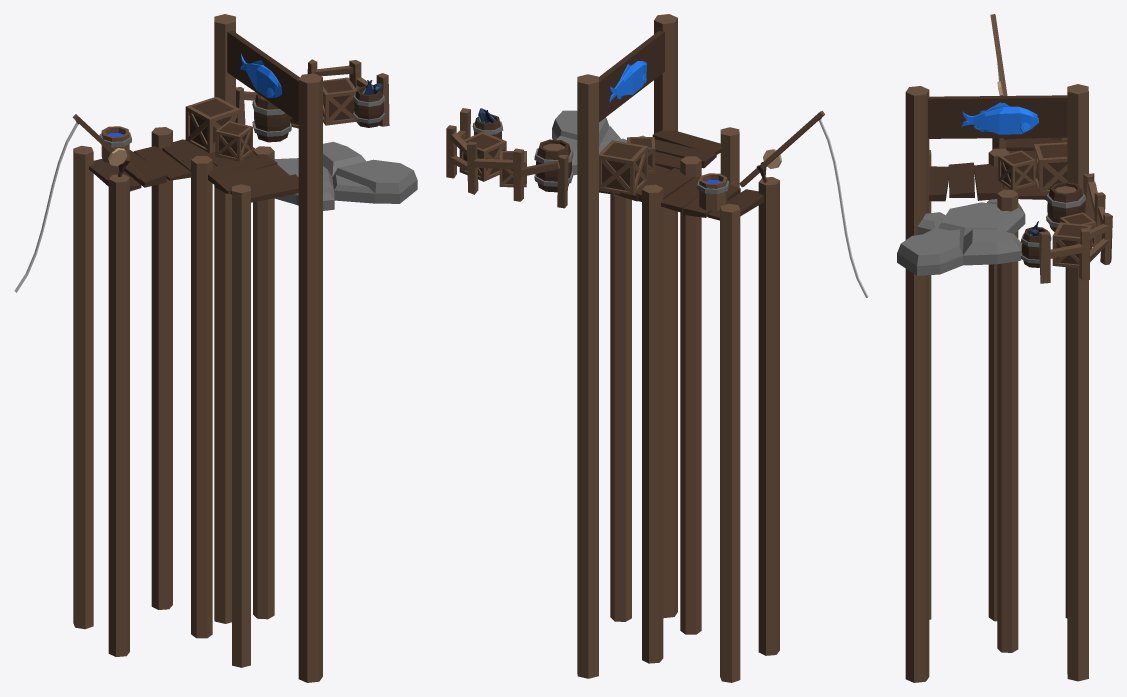
The model's file is Fisher LvL 1.fbx.
The picture shows the model from 3 angles, left to right: view 1: azimuth 30°, elevation 25°; view 2: azimuth 150°, elevation 25°; view 3: azimuth 270°, elevation 25°; orthographic projection. The views are drawn at different scales.
Visible parts, largest first — view 1: Rock_Type4_01_mesh.002, Team Color Obj.007; view 2: Rock_Type4_01_mesh.002, Team Color Obj.007; view 3: Rock_Type4_01_mesh.002, Team Color Obj.007.
Part boxes in pixels (left/top/right/bottom): Rock_Type4_01_mesh.002: left=14, top=14, right=417, bottom=682; Team Color Obj.007: left=240, top=54, right=281, bottom=98; Rock_Type4_01_mesh.002: left=446, top=14, right=868, bottom=682; Team Color Obj.007: left=609, top=61, right=646, bottom=102; Rock_Type4_01_mesh.002: left=897, top=14, right=1112, bottom=682; Team Color Obj.007: left=961, top=102, right=1038, bottom=134.
Bounding box in the file's own units: 282 × 413 × 138.
